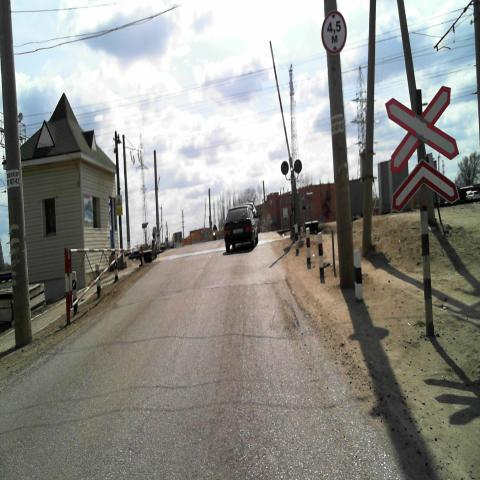3_13: (322, 10, 348, 56)
